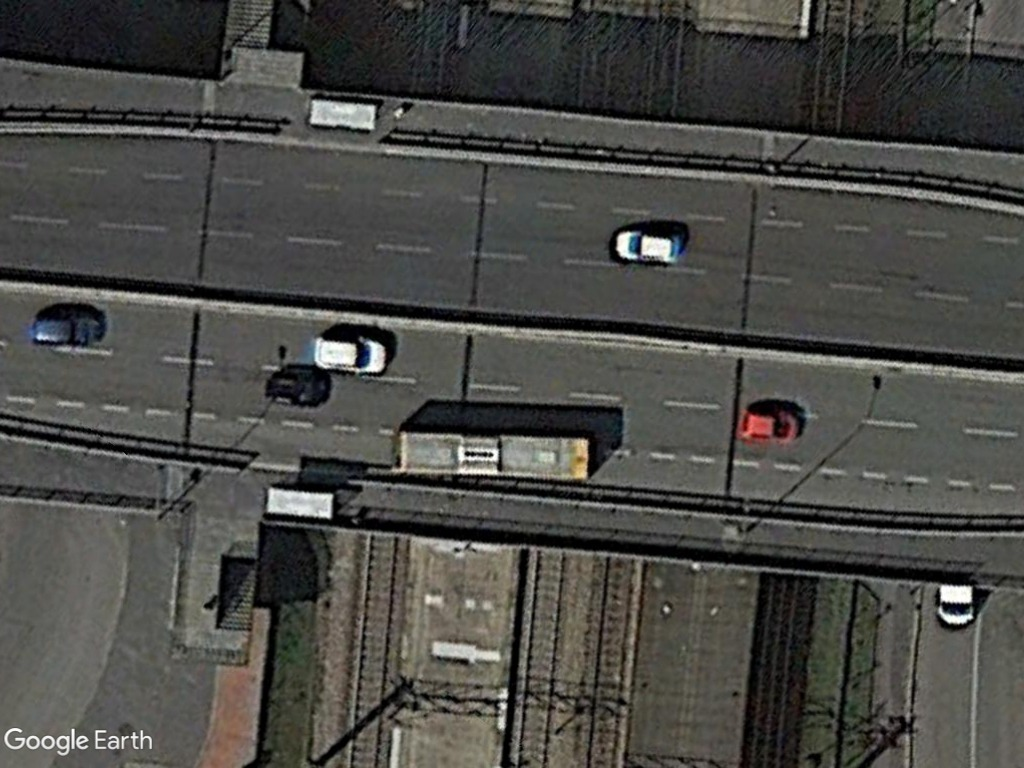bus: (391, 427, 596, 486)
car: (310, 332, 390, 376), (26, 311, 109, 350), (611, 226, 687, 267), (734, 407, 804, 446)
